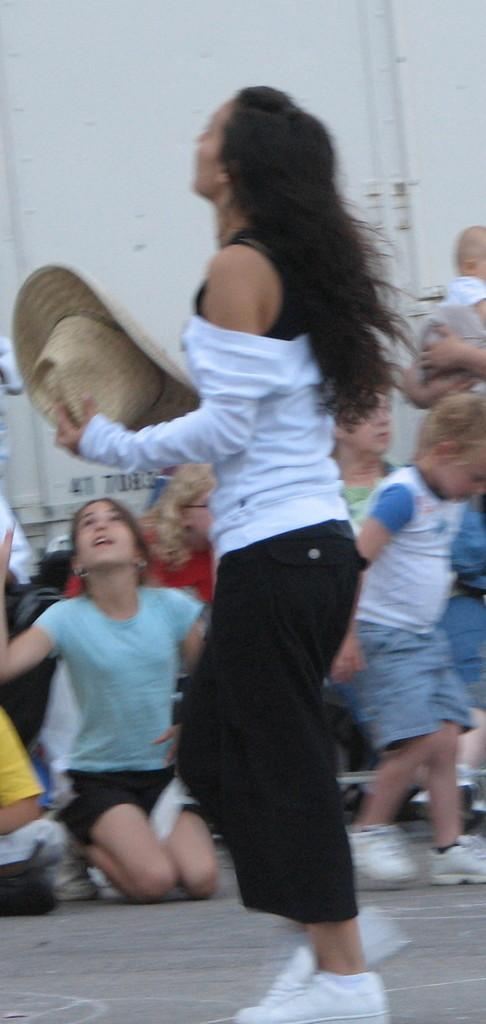Sem Máscara: (74, 501, 137, 569), (189, 103, 229, 187), (348, 393, 398, 447), (439, 437, 483, 495)
